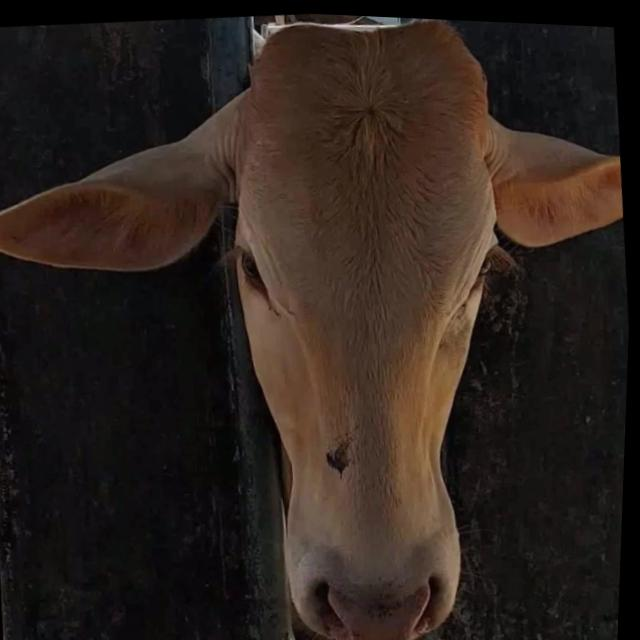cowFace: (201, 8, 541, 640)
